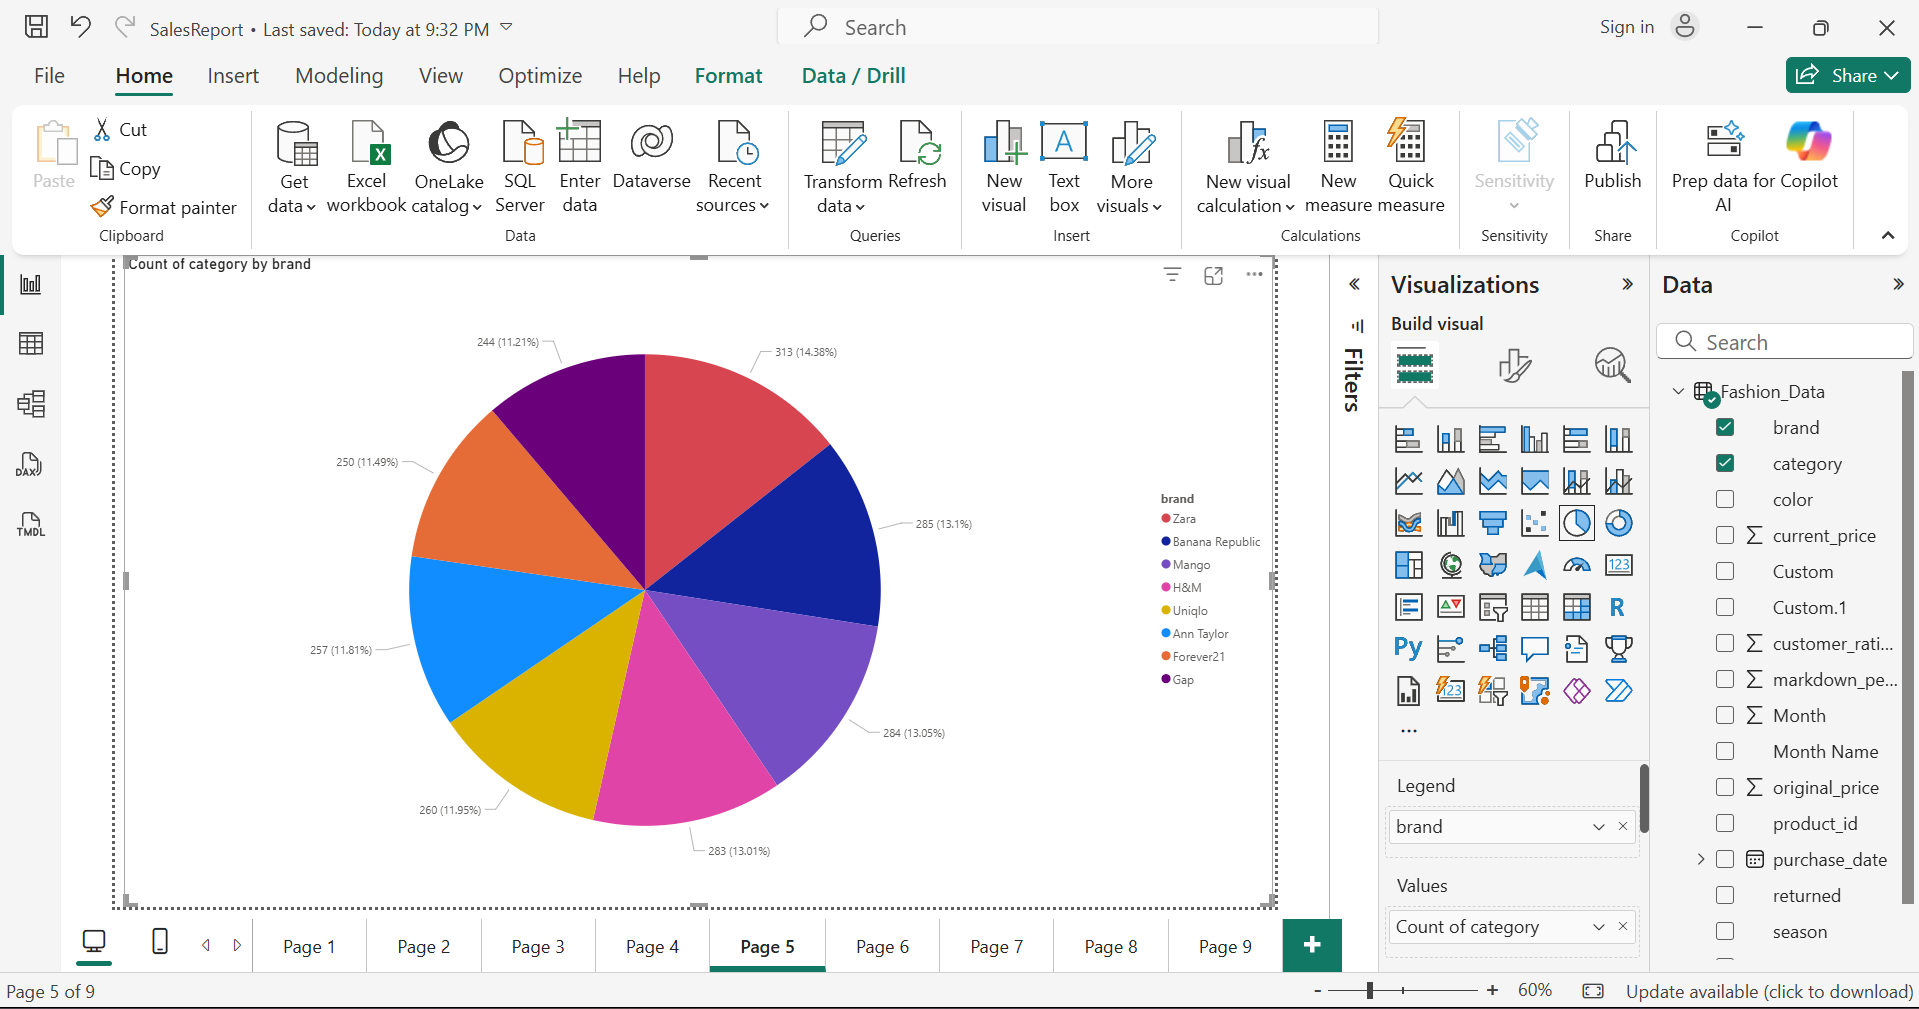

The dashboard page shown, as its layout file describes it:
{"tool":"powerbi","page":{"name":"Page 5","canvas":[1280,720],"ordinal":4},"visuals":[{"type":"pieChart","fields":{"Category":["Fashion_Data.brand"],"Y":["CountNonNull(Fashion_Data.category)"]},"box":[9.4,0,1269.9,720],"z":0}]}

Visuals, with their boxes on the page's 1280x720 design canvas (x1, y1, x2, y2). These are canvas units, not pixel positions in the 1919x1009 screenshot, which may show the page scaled, cropped or inside an application window:
pieChart - Fashion_Data.brand x CountNonNull(Fashion_Data.category): {"left": 9, "top": 0, "right": 1279, "bottom": 720}
